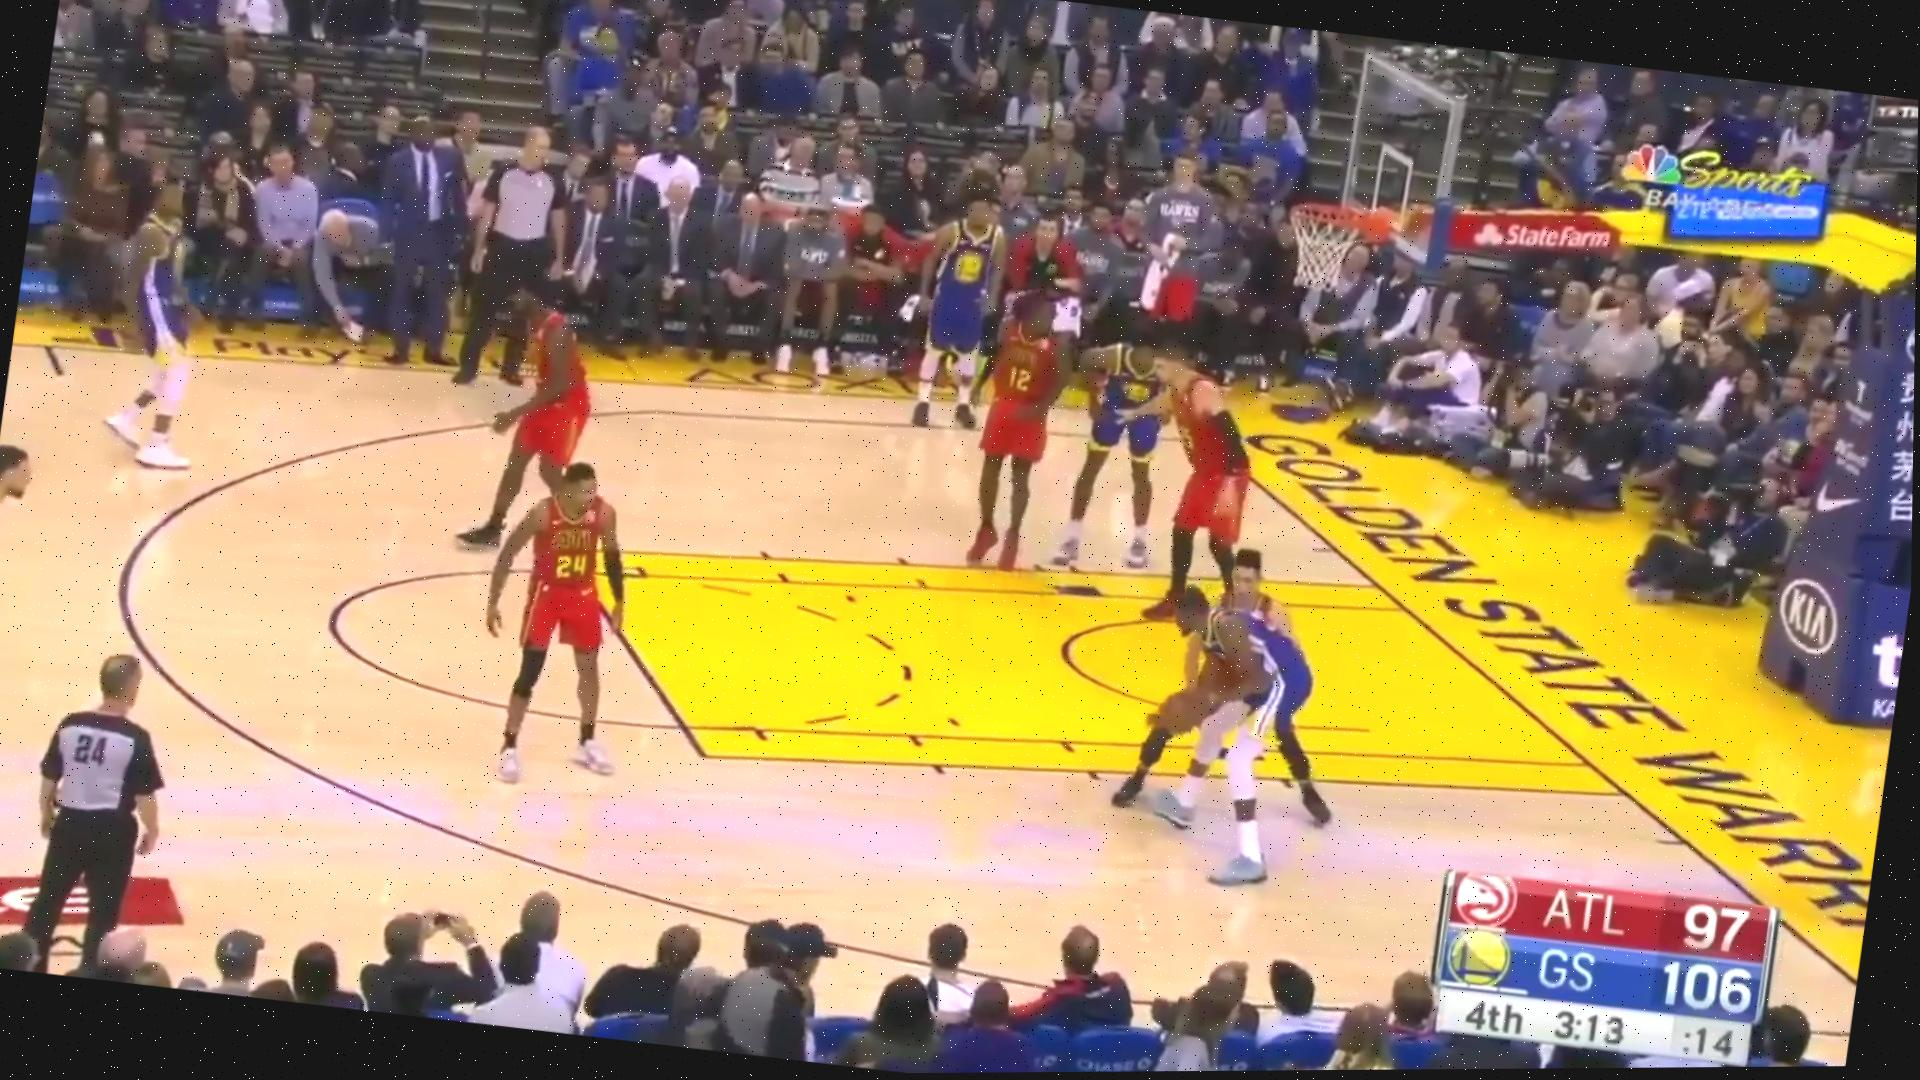foul: (1088, 526, 1378, 891)
